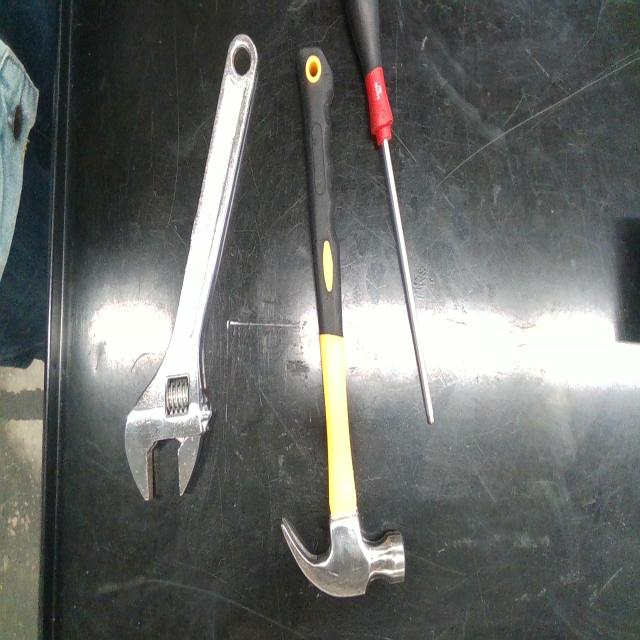Screwdriver: (347, 0, 434, 423)
